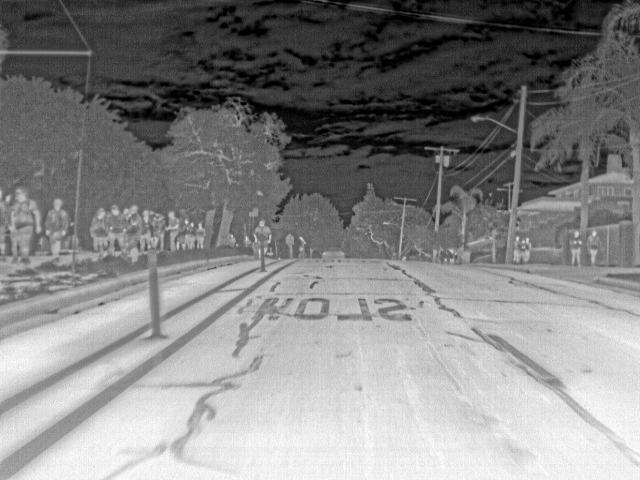car: (321, 244, 348, 258)
person: (11, 185, 41, 264), (47, 196, 69, 263), (126, 203, 144, 258), (107, 203, 125, 256), (92, 207, 109, 257), (148, 208, 163, 252), (137, 208, 151, 252), (587, 228, 603, 265), (165, 210, 179, 250), (569, 230, 584, 266), (254, 220, 272, 246), (178, 216, 191, 250), (1, 188, 7, 260), (184, 220, 197, 252), (195, 221, 207, 251), (520, 236, 532, 266), (512, 236, 524, 264), (226, 233, 240, 249), (242, 235, 254, 248)
